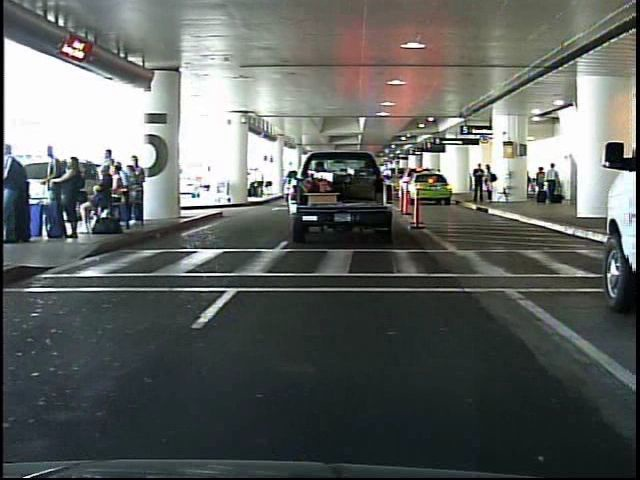person: (480, 164, 496, 205), (471, 160, 485, 206)
